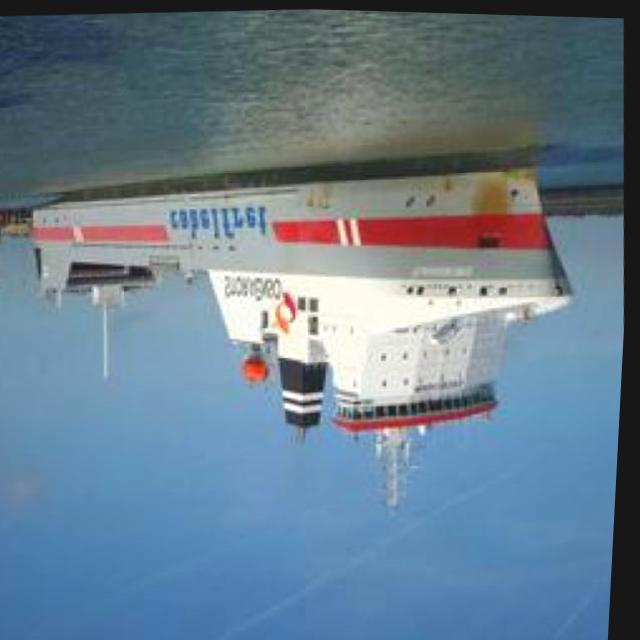ship2: (33, 155, 578, 510)
